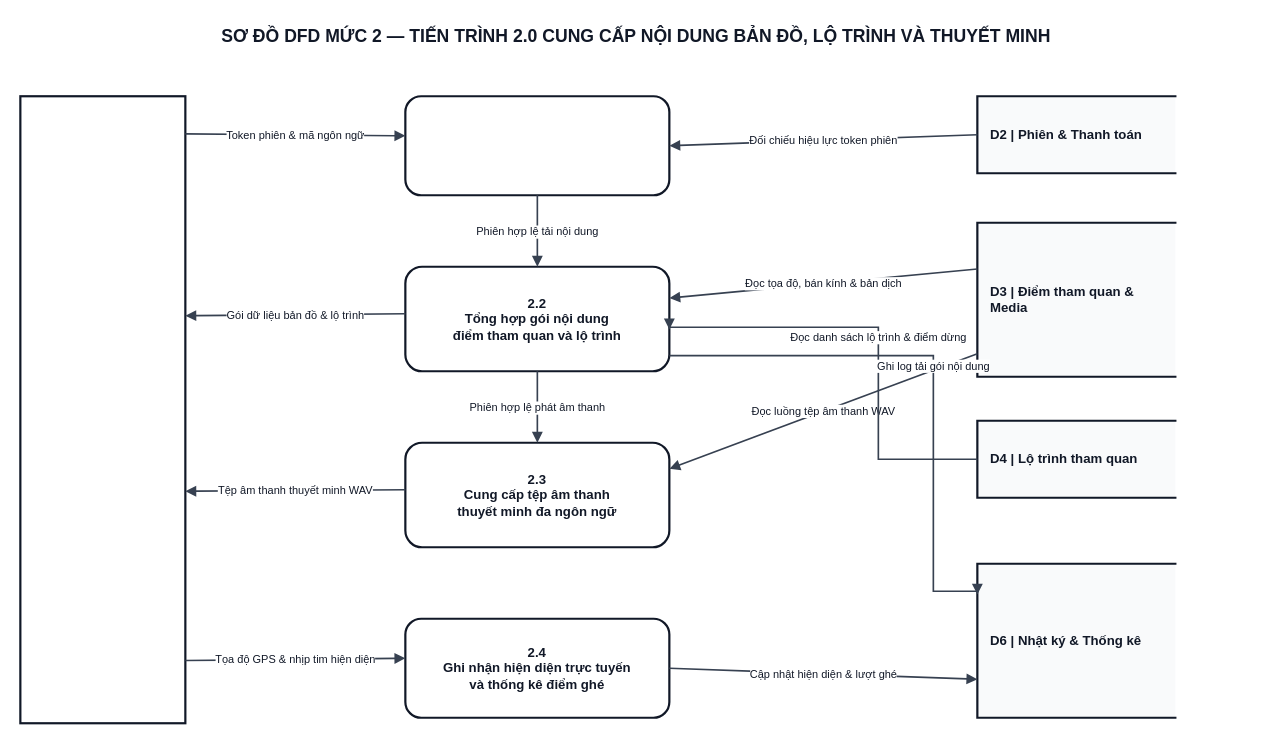
The diagram is 1271 pixels wide and 743 high, and some of its shapes have lost their labels. Here are the shapes that lost their labels. From the top down, the box of each, then its label:
(404, 95, 670, 196): 2.1 Kiểm tra hiệu lực phiên tham quan và ngôn ngữ
(19, 95, 186, 724): Khách tham quan
